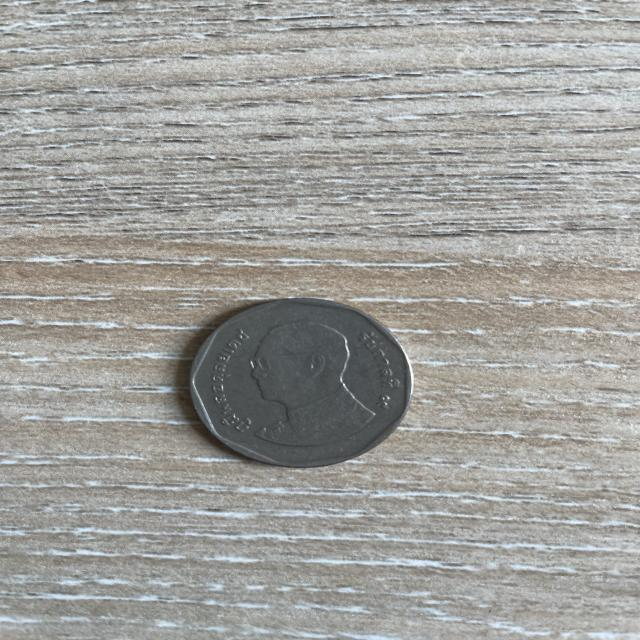5 Bath: (177, 293, 425, 475)
